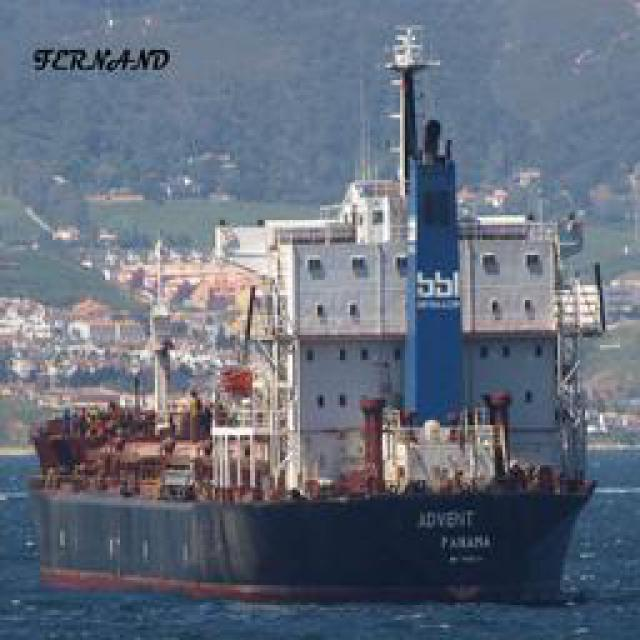Ship: (18, 5, 616, 618)
